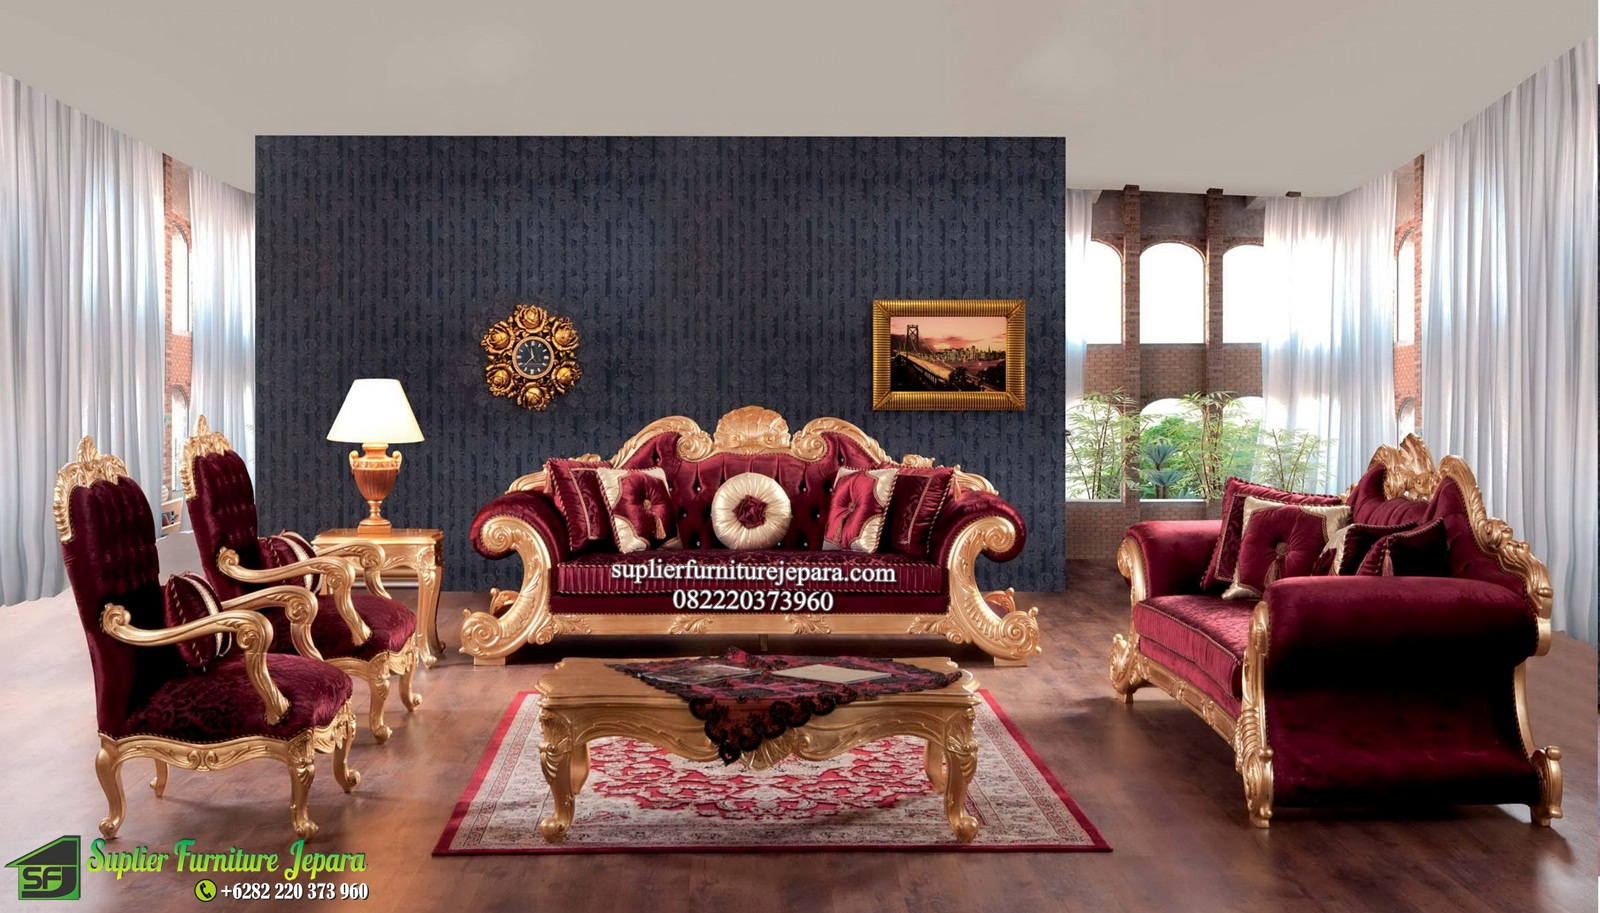Carving Chair: (1129, 446, 1584, 857), (52, 432, 442, 832), (473, 415, 1044, 679)
Carving Table: (531, 636, 1046, 851)
